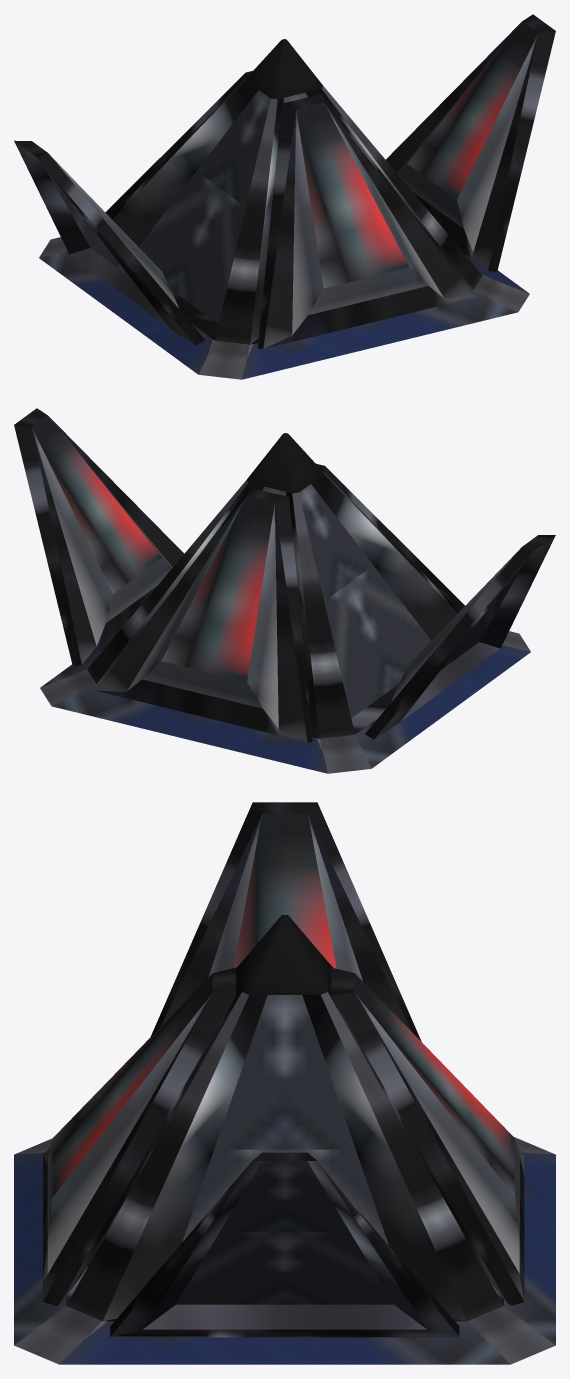
The model's file is armsolar_red.glb.
3 renders of one model, top to bottom at view 1: azimuth 30°, elevation 25°; view 2: azimuth 150°, elevation 25°; view 3: azimuth 270°, elevation 25°, orthographic. The views are drawn at different scales.
Visible parts, largest first — view 1: base, dish3, dish4, dish2, dish1; view 2: base, dish1, dish4, dish2, dish3; view 3: base, dish4, dish2, dish1, dish3.
Part boxes in pixels (x1,y1,x2,y2): base: [39, 39, 529, 379]; dish3: [258, 94, 476, 348]; dish4: [386, 14, 555, 271]; dish2: [14, 140, 204, 345]; dish1: [105, 71, 252, 216]; base: [40, 433, 530, 773]; dish1: [94, 487, 312, 742]; dish4: [14, 408, 184, 665]; dish2: [365, 535, 555, 739]; dish3: [316, 463, 464, 610]; base: [14, 915, 555, 1364]; dish4: [110, 1152, 459, 1337]; dish2: [150, 802, 421, 1041]; dish1: [331, 967, 524, 1305]; dish3: [43, 967, 235, 1306].
Size of the model in its own units: 63.91 by 27.75 by 40.83.
Materials: 1 (1 with a texture image).
